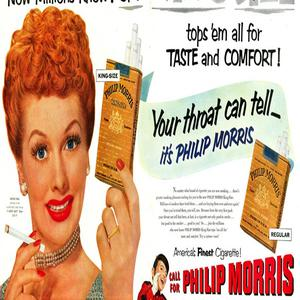cigarette: (3, 225, 47, 253)
